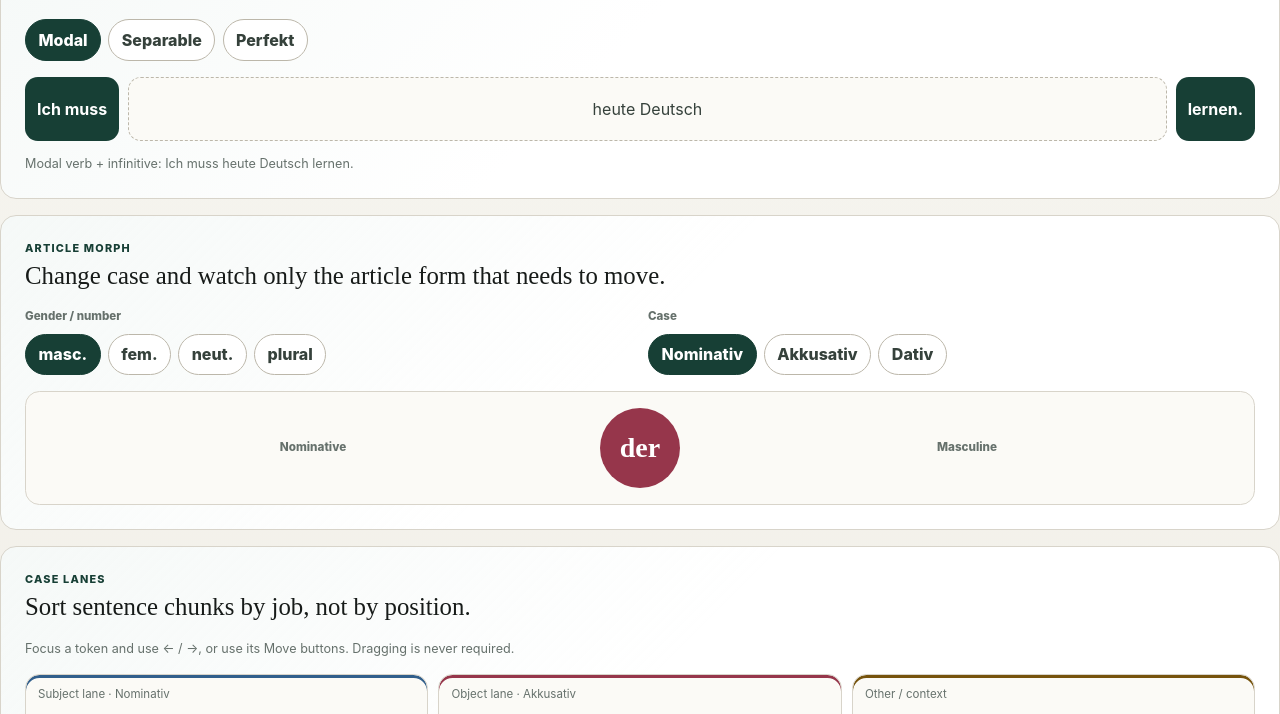
Test: GrammarInteractionLab › morphs the article with explicit keyboard-reachable controls
(page scrolled)
Click the button "Dativ". click: click(913, 354)
box: x1=878 y1=334 x2=947 y2=375
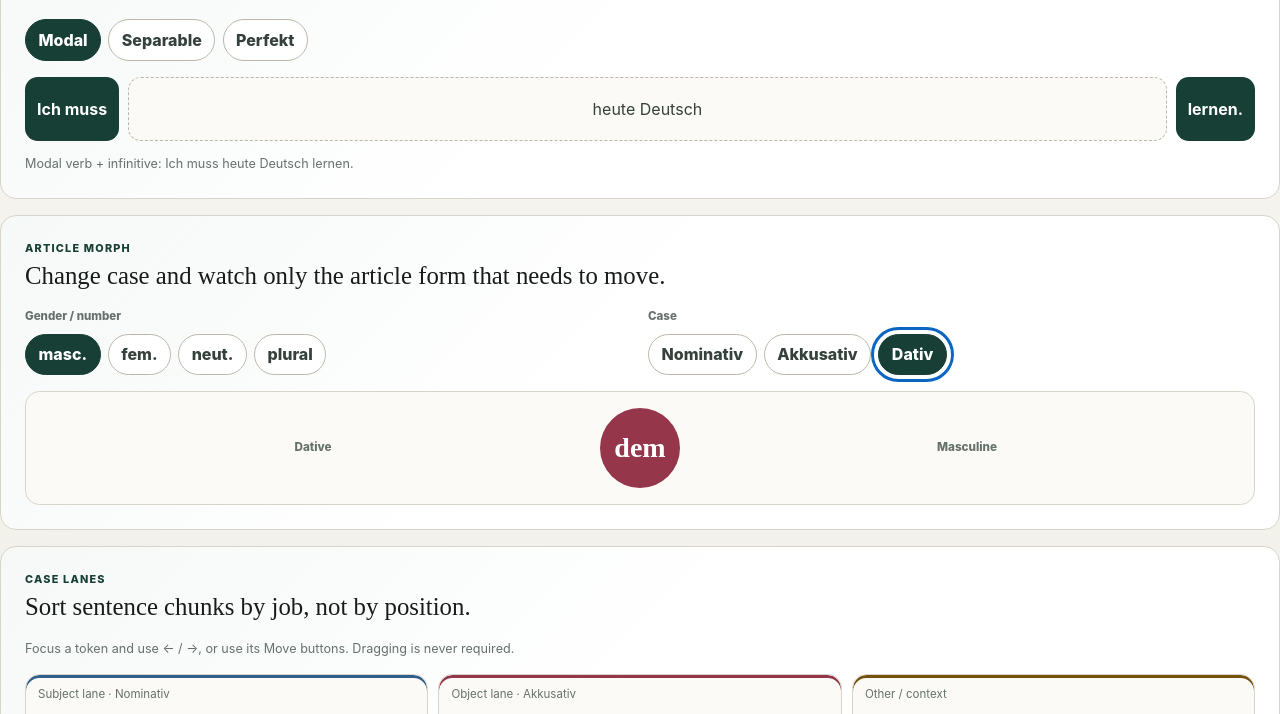
Check: the text "dem" is shown, box x1=600 y1=408 x2=680 y2=488
